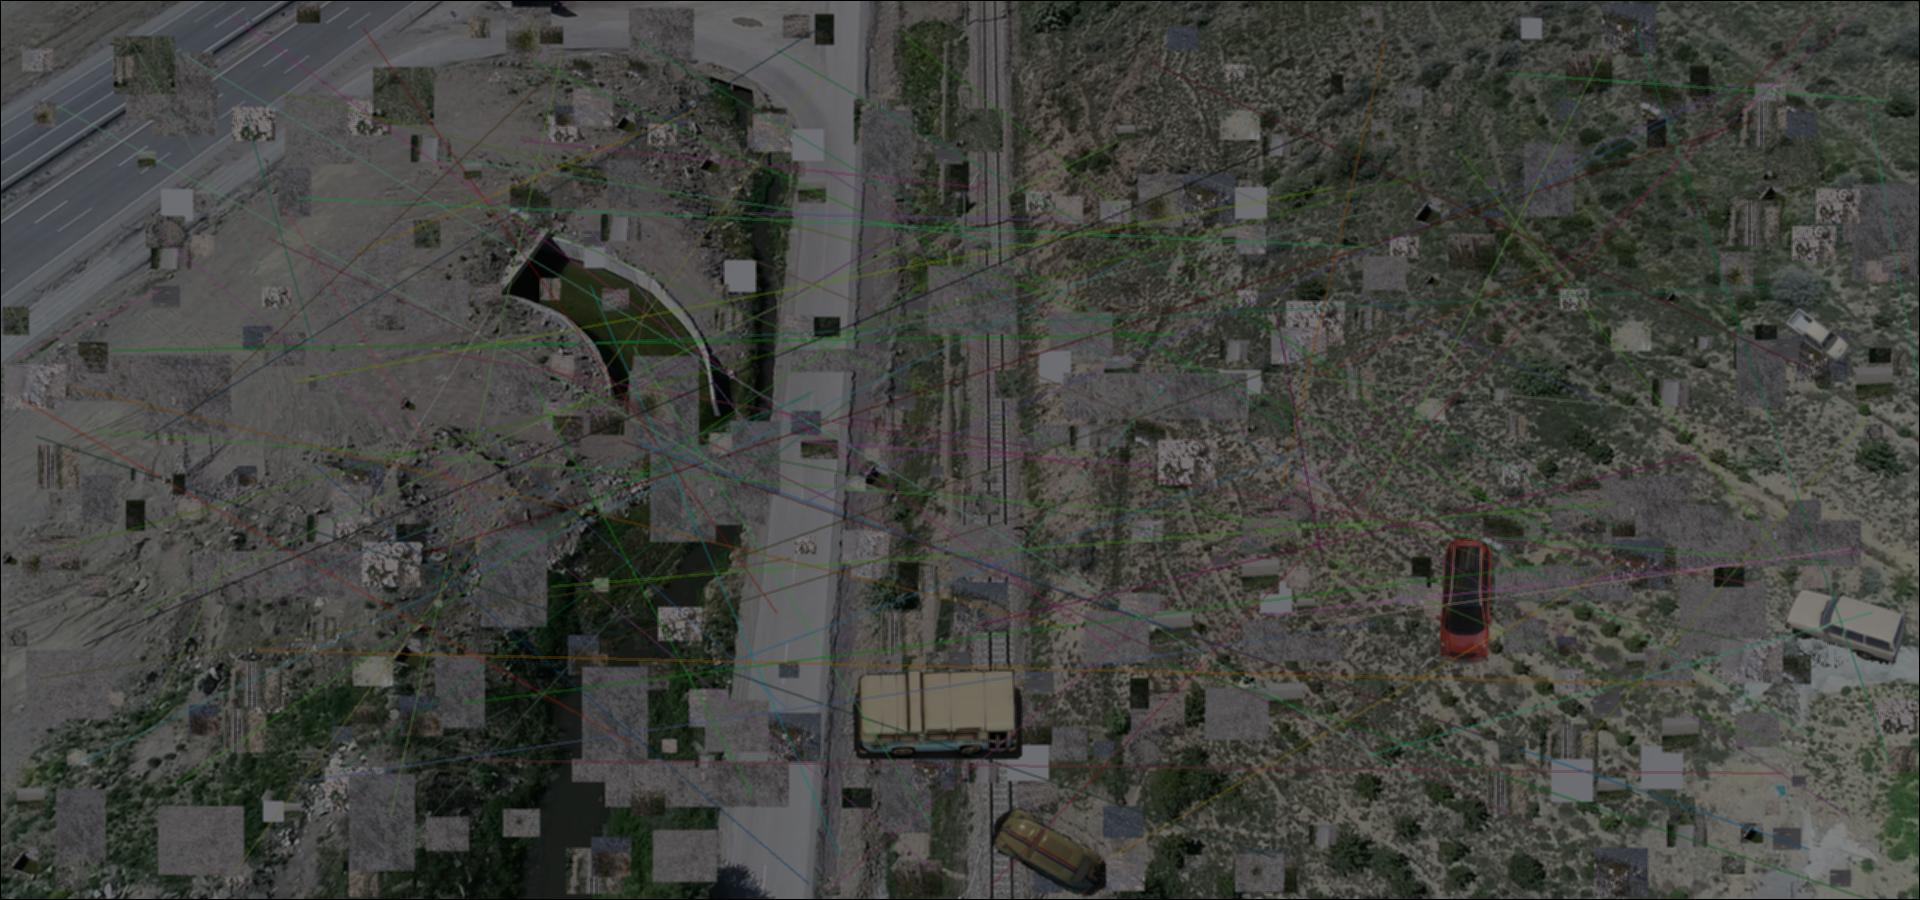arac: (849, 669, 1022, 759), (1776, 587, 1907, 669), (989, 806, 1106, 898), (1433, 538, 1495, 666), (1782, 307, 1851, 361)
